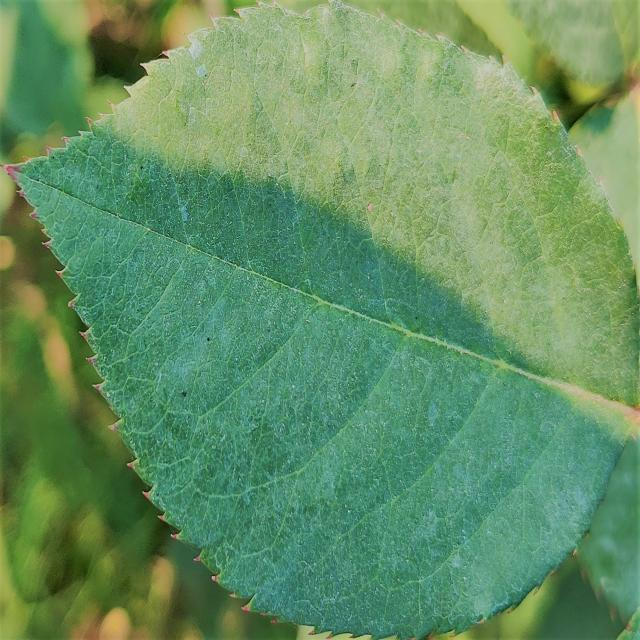Rose: (3, 1, 638, 638)
